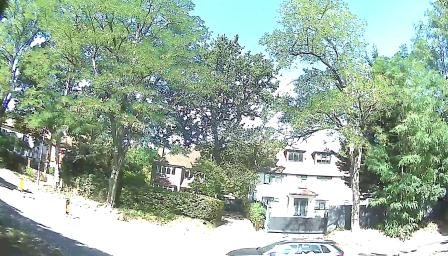Cars: (206, 226, 377, 256)
